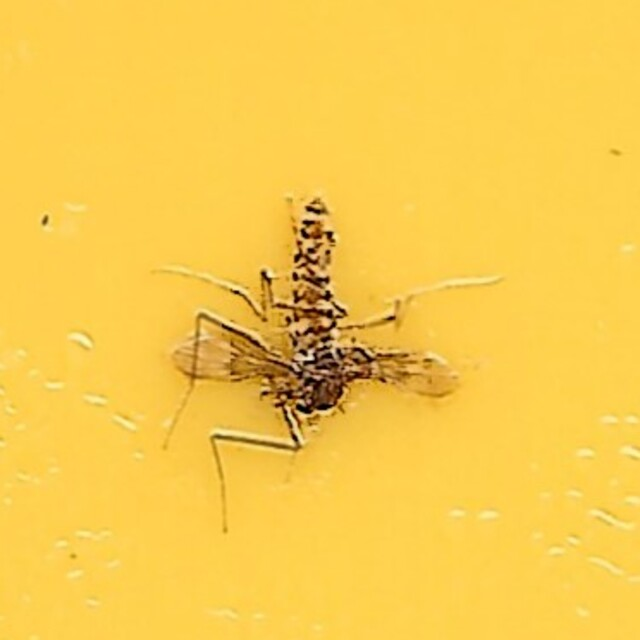Nematocera: (172, 184, 468, 456)
